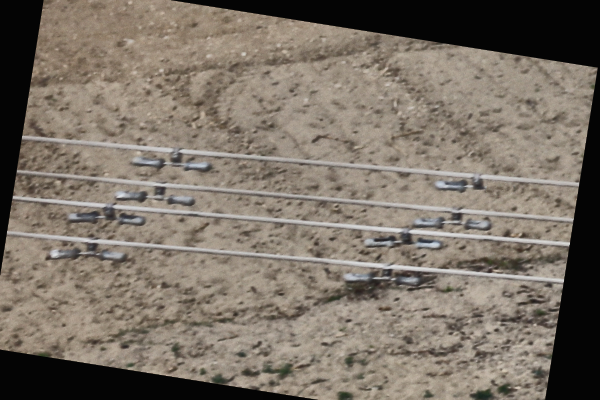damper: (42, 234, 129, 264), (130, 144, 214, 175), (340, 259, 423, 289), (411, 203, 492, 233), (111, 178, 196, 206), (362, 222, 442, 251), (63, 200, 146, 227)
damper_defect: (431, 170, 490, 193)
